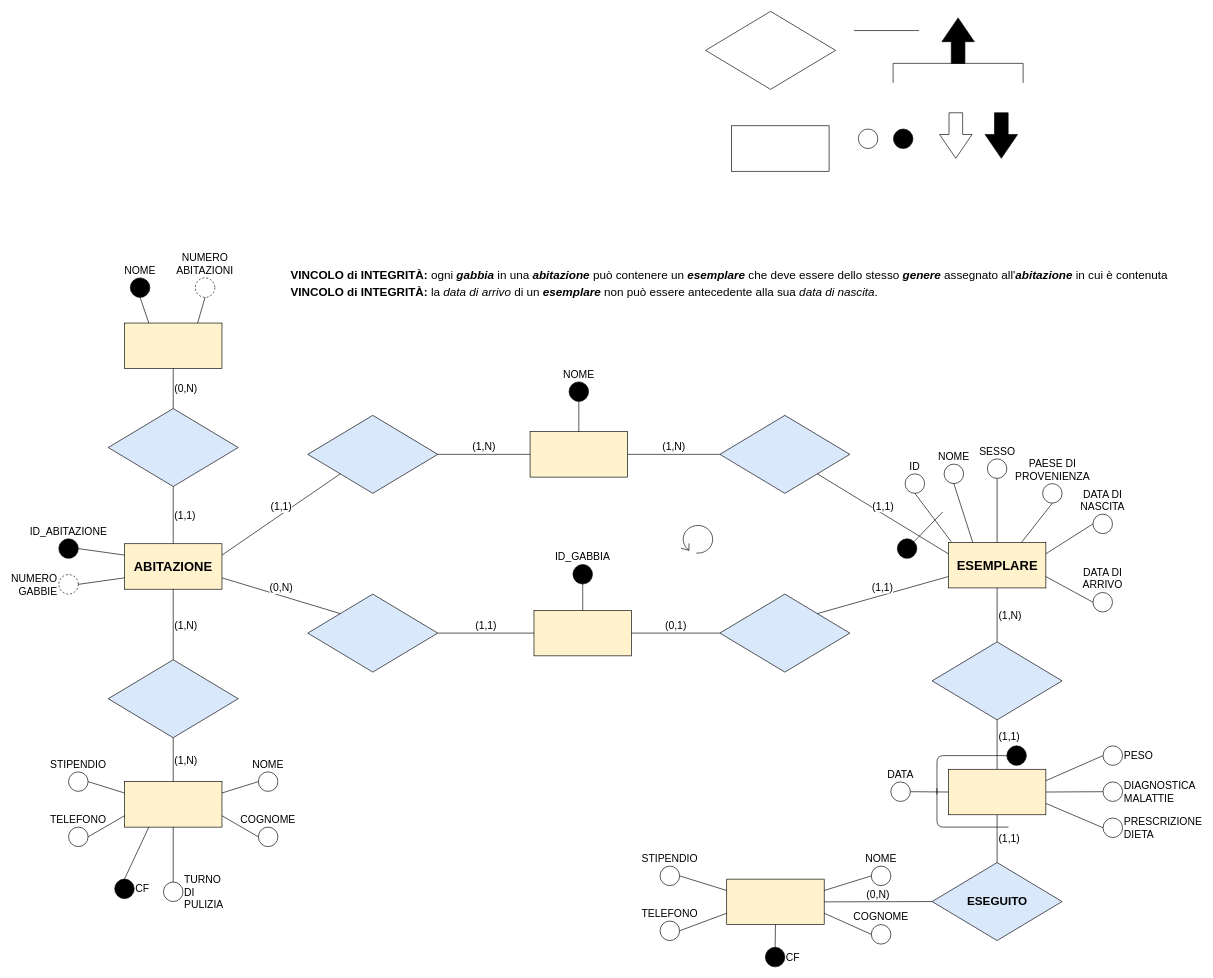
Some shapes in this 1213 by 978 pixel diagram are drawn without their labels. The shapes that lost their labels are listed below. From the top down, each one's centre as x and y in pixels, then its label:
At pixel 173 345: "AREA".
At pixel 173 447: "COLLOCATA".
At pixel 372 454: "ASSEGNATO".
At pixel 578 454: "GENERE".
At pixel 784 454: "APPARTIENE".
At pixel 372 632: "IN".
At pixel 582 633: "GABBIA".
At pixel 784 632: "CONTENUTO".
At pixel 173 698: "PULIRE".
At pixel 996 680: "RICEVE".
At pixel 173 804: "ADDETTO PULIZIE".
At pixel 997 792: "VISITA".
At pixel 775 901: "VETERINARIO".
